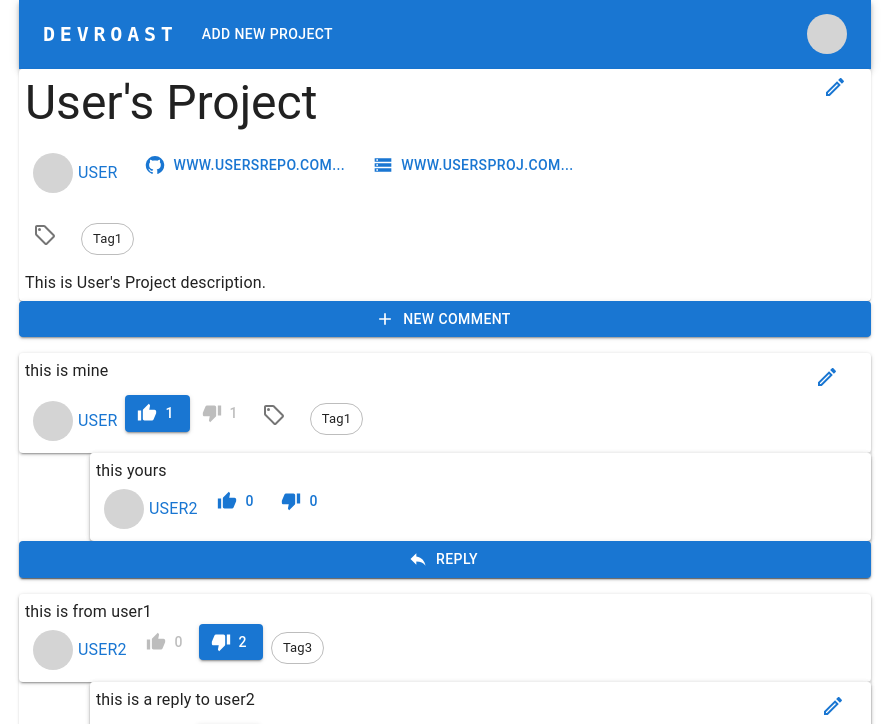
Test: Voting logged in › voting increments correct number
Click the 1st button "0" at (238, 502), box [206,483,270,520]
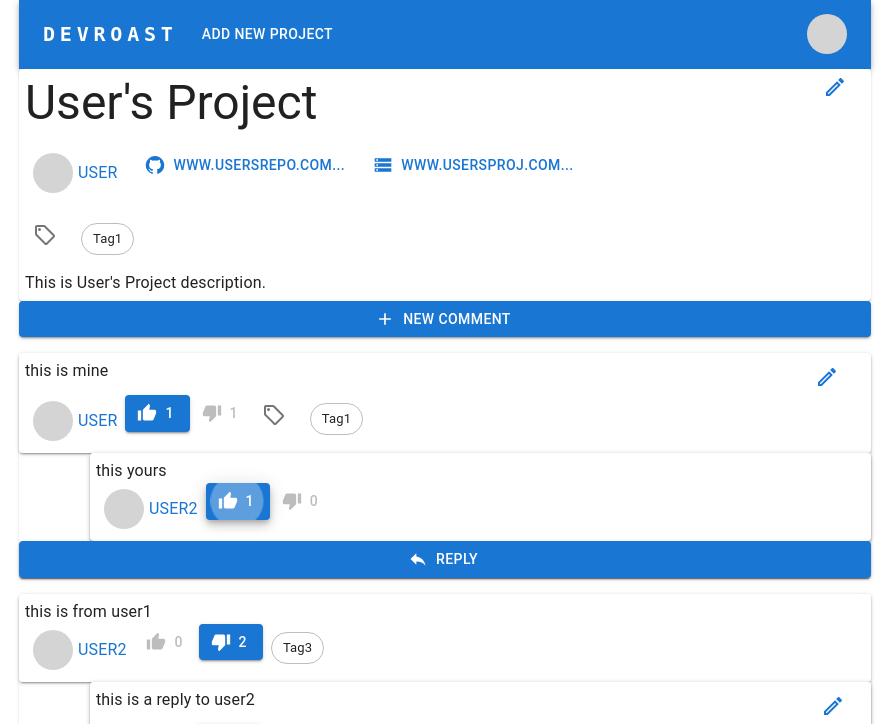
Expected: the button "1" below "this yours" is shown, [206,483,270,520]
